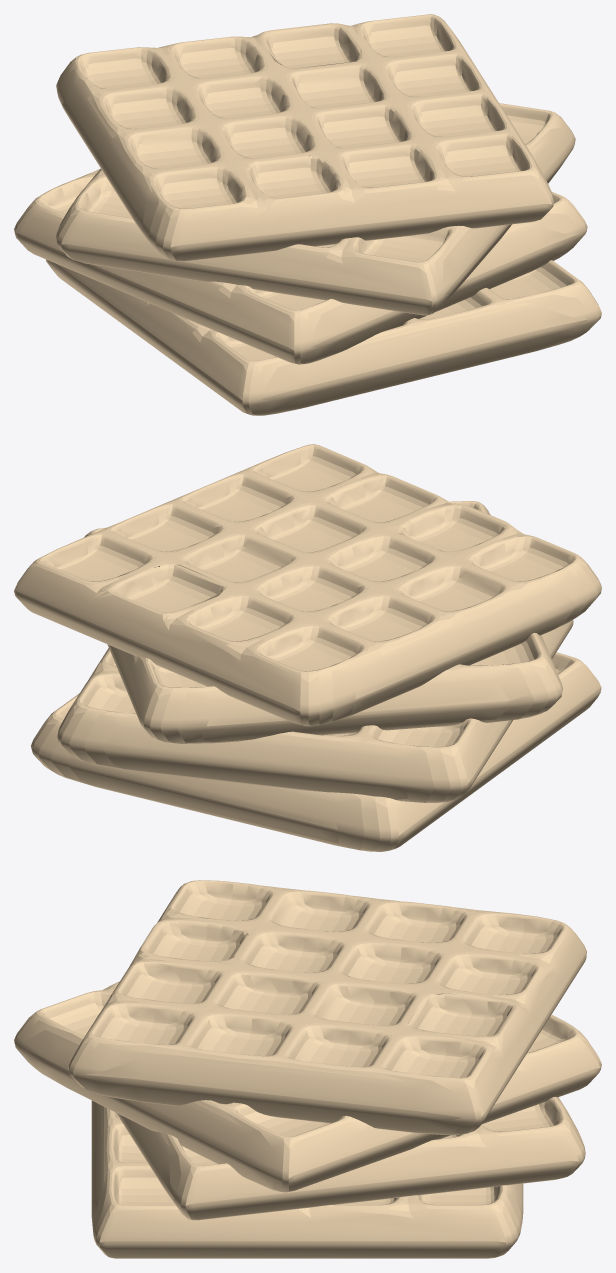
File: Waffles.fbx
3 renders of one model, top to bottom at view 1: azimuth 30°, elevation 25°; view 2: azimuth 150°, elevation 25°; view 3: azimuth 270°, elevation 25°, orthographic. The views are drawn at different scales.
Parts seen in each view (by area): view 1: Waffles; view 2: Waffles; view 3: Waffles.
Boxes of the visible parts, x1=… form: Waffles: x1=14, y1=14, x2=601, y2=415; Waffles: x1=14, y1=444, x2=601, y2=851; Waffles: x1=14, y1=880, x2=601, y2=1258.
Size of the model in its own units: 26.03 by 69.67 by 69.55.
